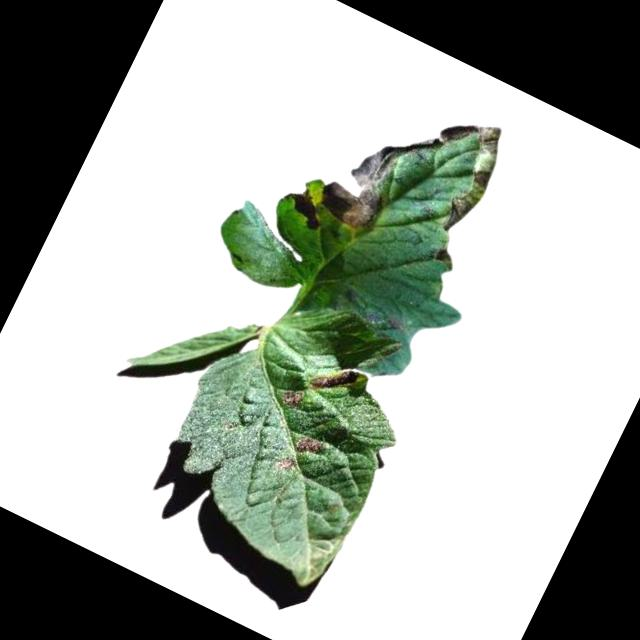Early_blight: (312, 103, 442, 248), (403, 102, 516, 238), (277, 182, 333, 235), (308, 354, 361, 404), (361, 301, 413, 343), (292, 430, 326, 460), (277, 383, 306, 412), (273, 452, 296, 474)
